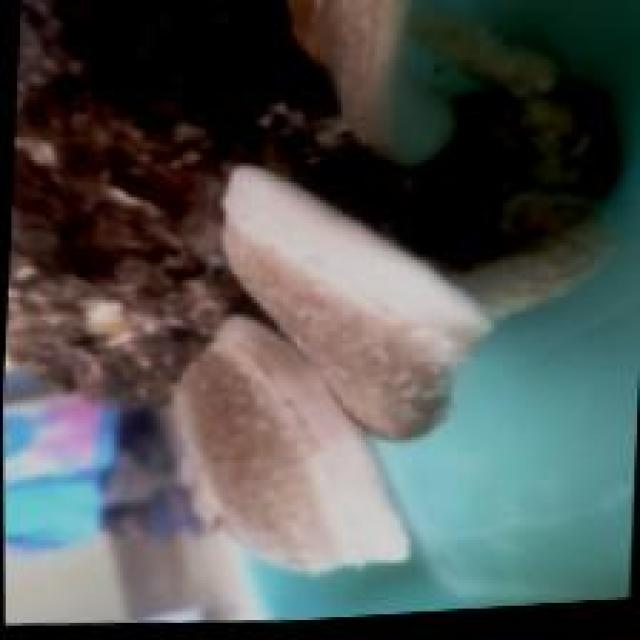chanterelle: (6, 0, 623, 580)
